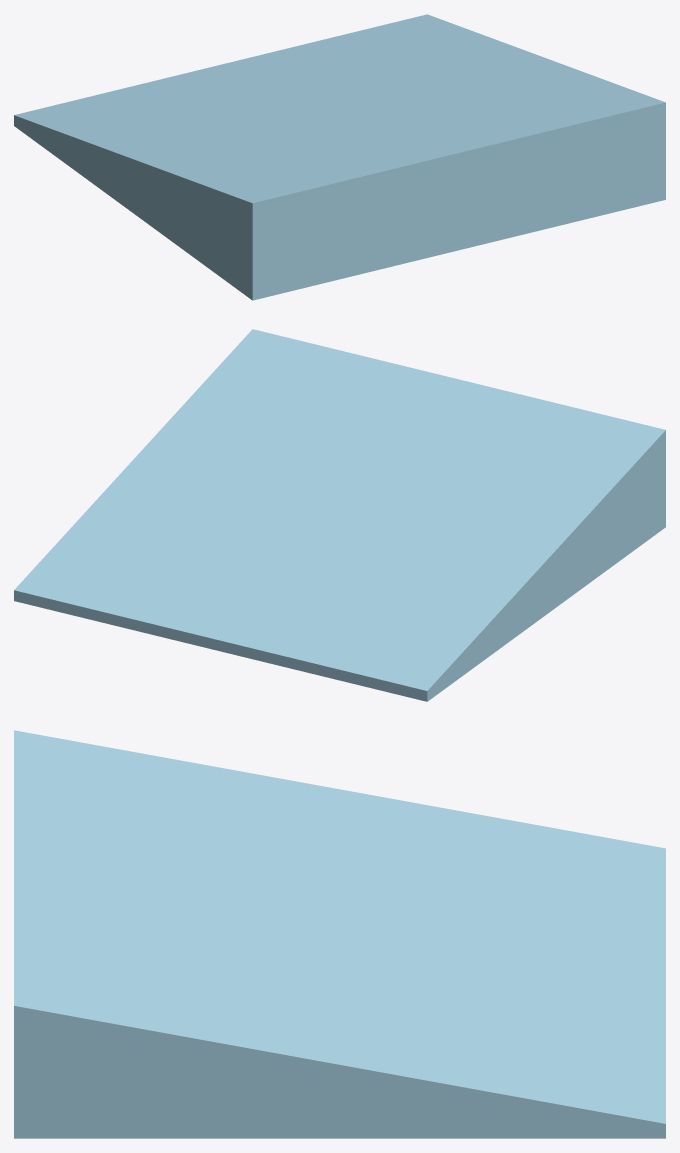
File: roadSlope.dae
3 views of the same model, one above another, from view 1: azimuth 30°, elevation 25°; view 2: azimuth 150°, elevation 25°; view 3: azimuth 270°, elevation 25° (orthographic). The views are drawn at different scales.
Parts seen in each view (by area): view 1: roadSlope; view 2: roadSlope; view 3: roadSlope.
Part boxes in pixels (<box>): roadSlope: <box>14,14,665,300</box>; roadSlope: <box>14,329,665,701</box>; roadSlope: <box>14,730,665,1138</box>.
Size of the model in its own units: 1 by 0.225 by 1.
